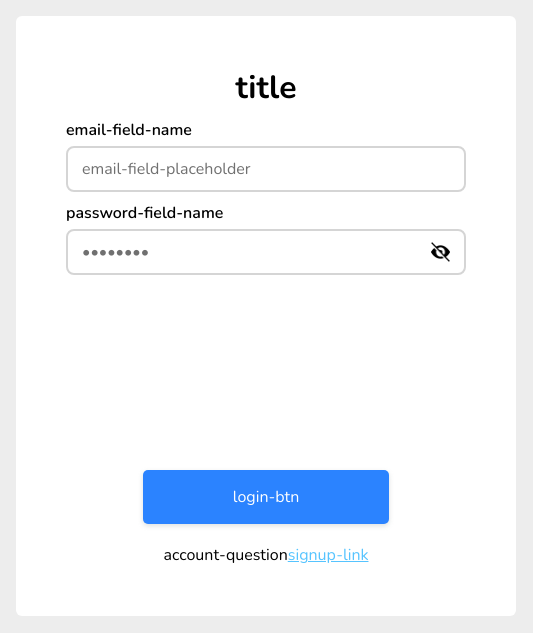
Test case: LoginPage › shows error message when login throws 401/404 error
Type "fail@example.com" into the field with test id "email" at (266, 169), box [82,158,450,180]
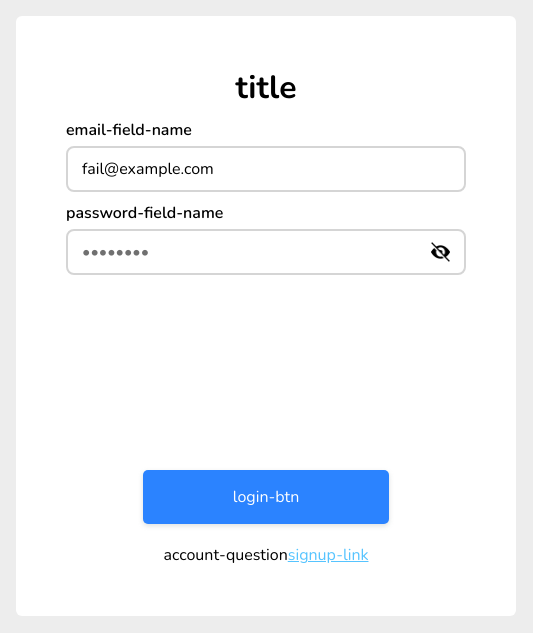
Type "wrongpass" into the password field with test id "password" at (256, 252), box [82,241,431,263]
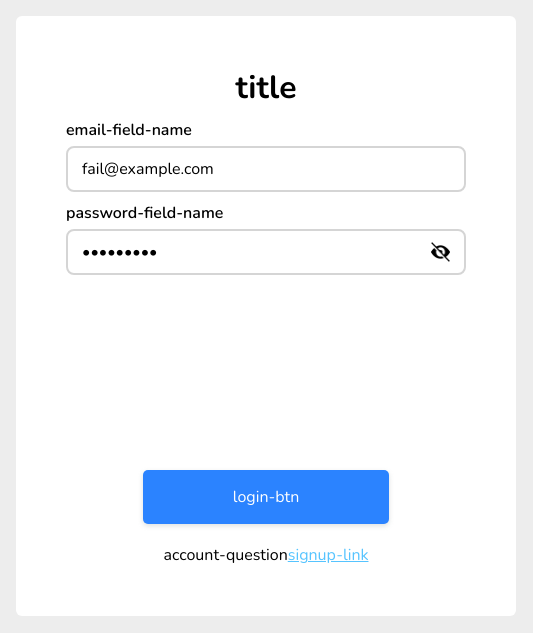
Click the button "login-btn" at (266, 497), box [143,470,389,524]
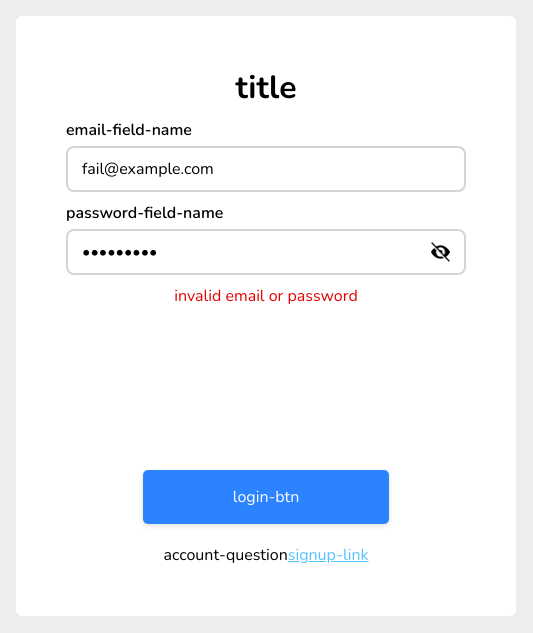
Now the text "invalid email or password" is shown, box [174,285,358,307]
